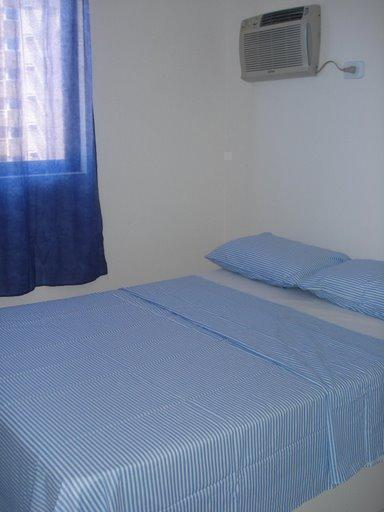Cama: (3, 227, 383, 511)
Ventana: (5, 2, 83, 174)
